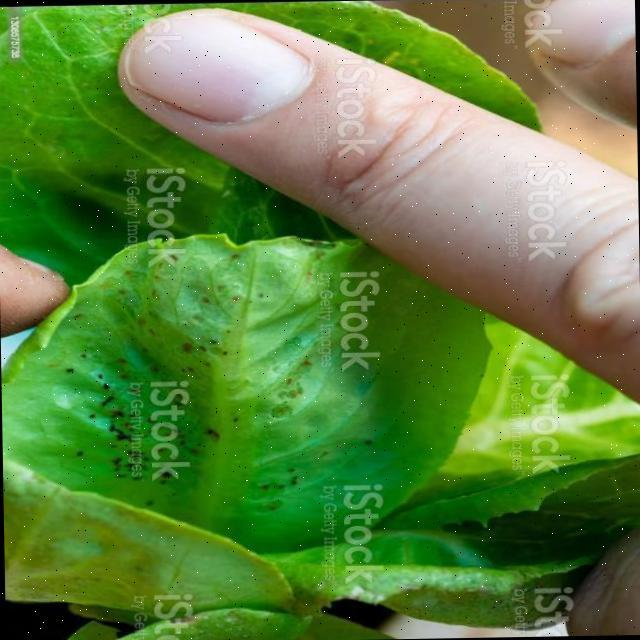Bacterial: (99, 259, 387, 497)
